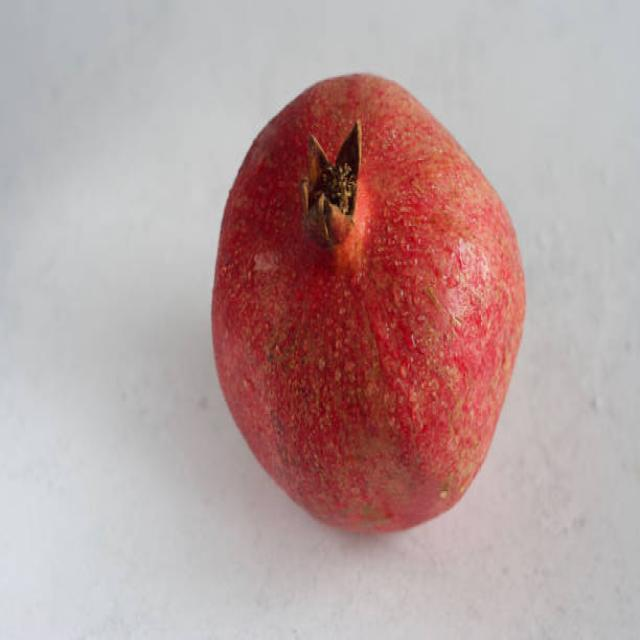Ripe: (207, 66, 530, 539)
